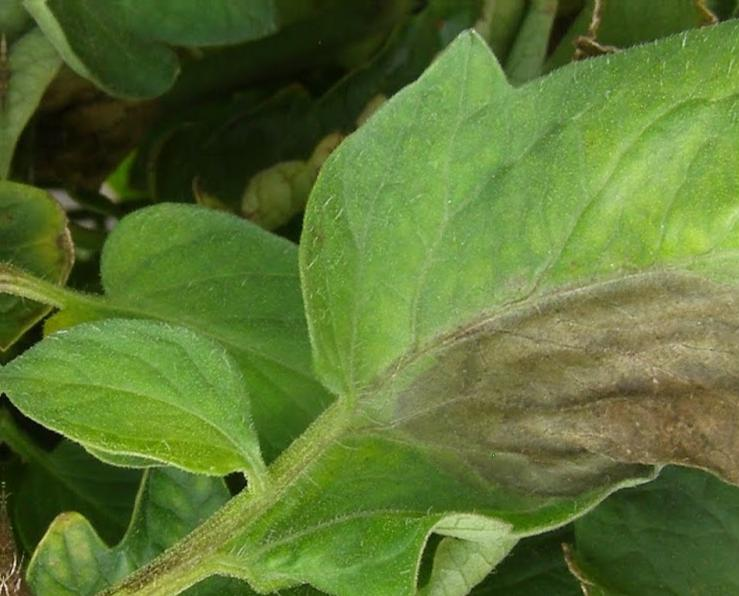Tomato mold leaf: (276, 10, 739, 596), (0, 303, 271, 494)
